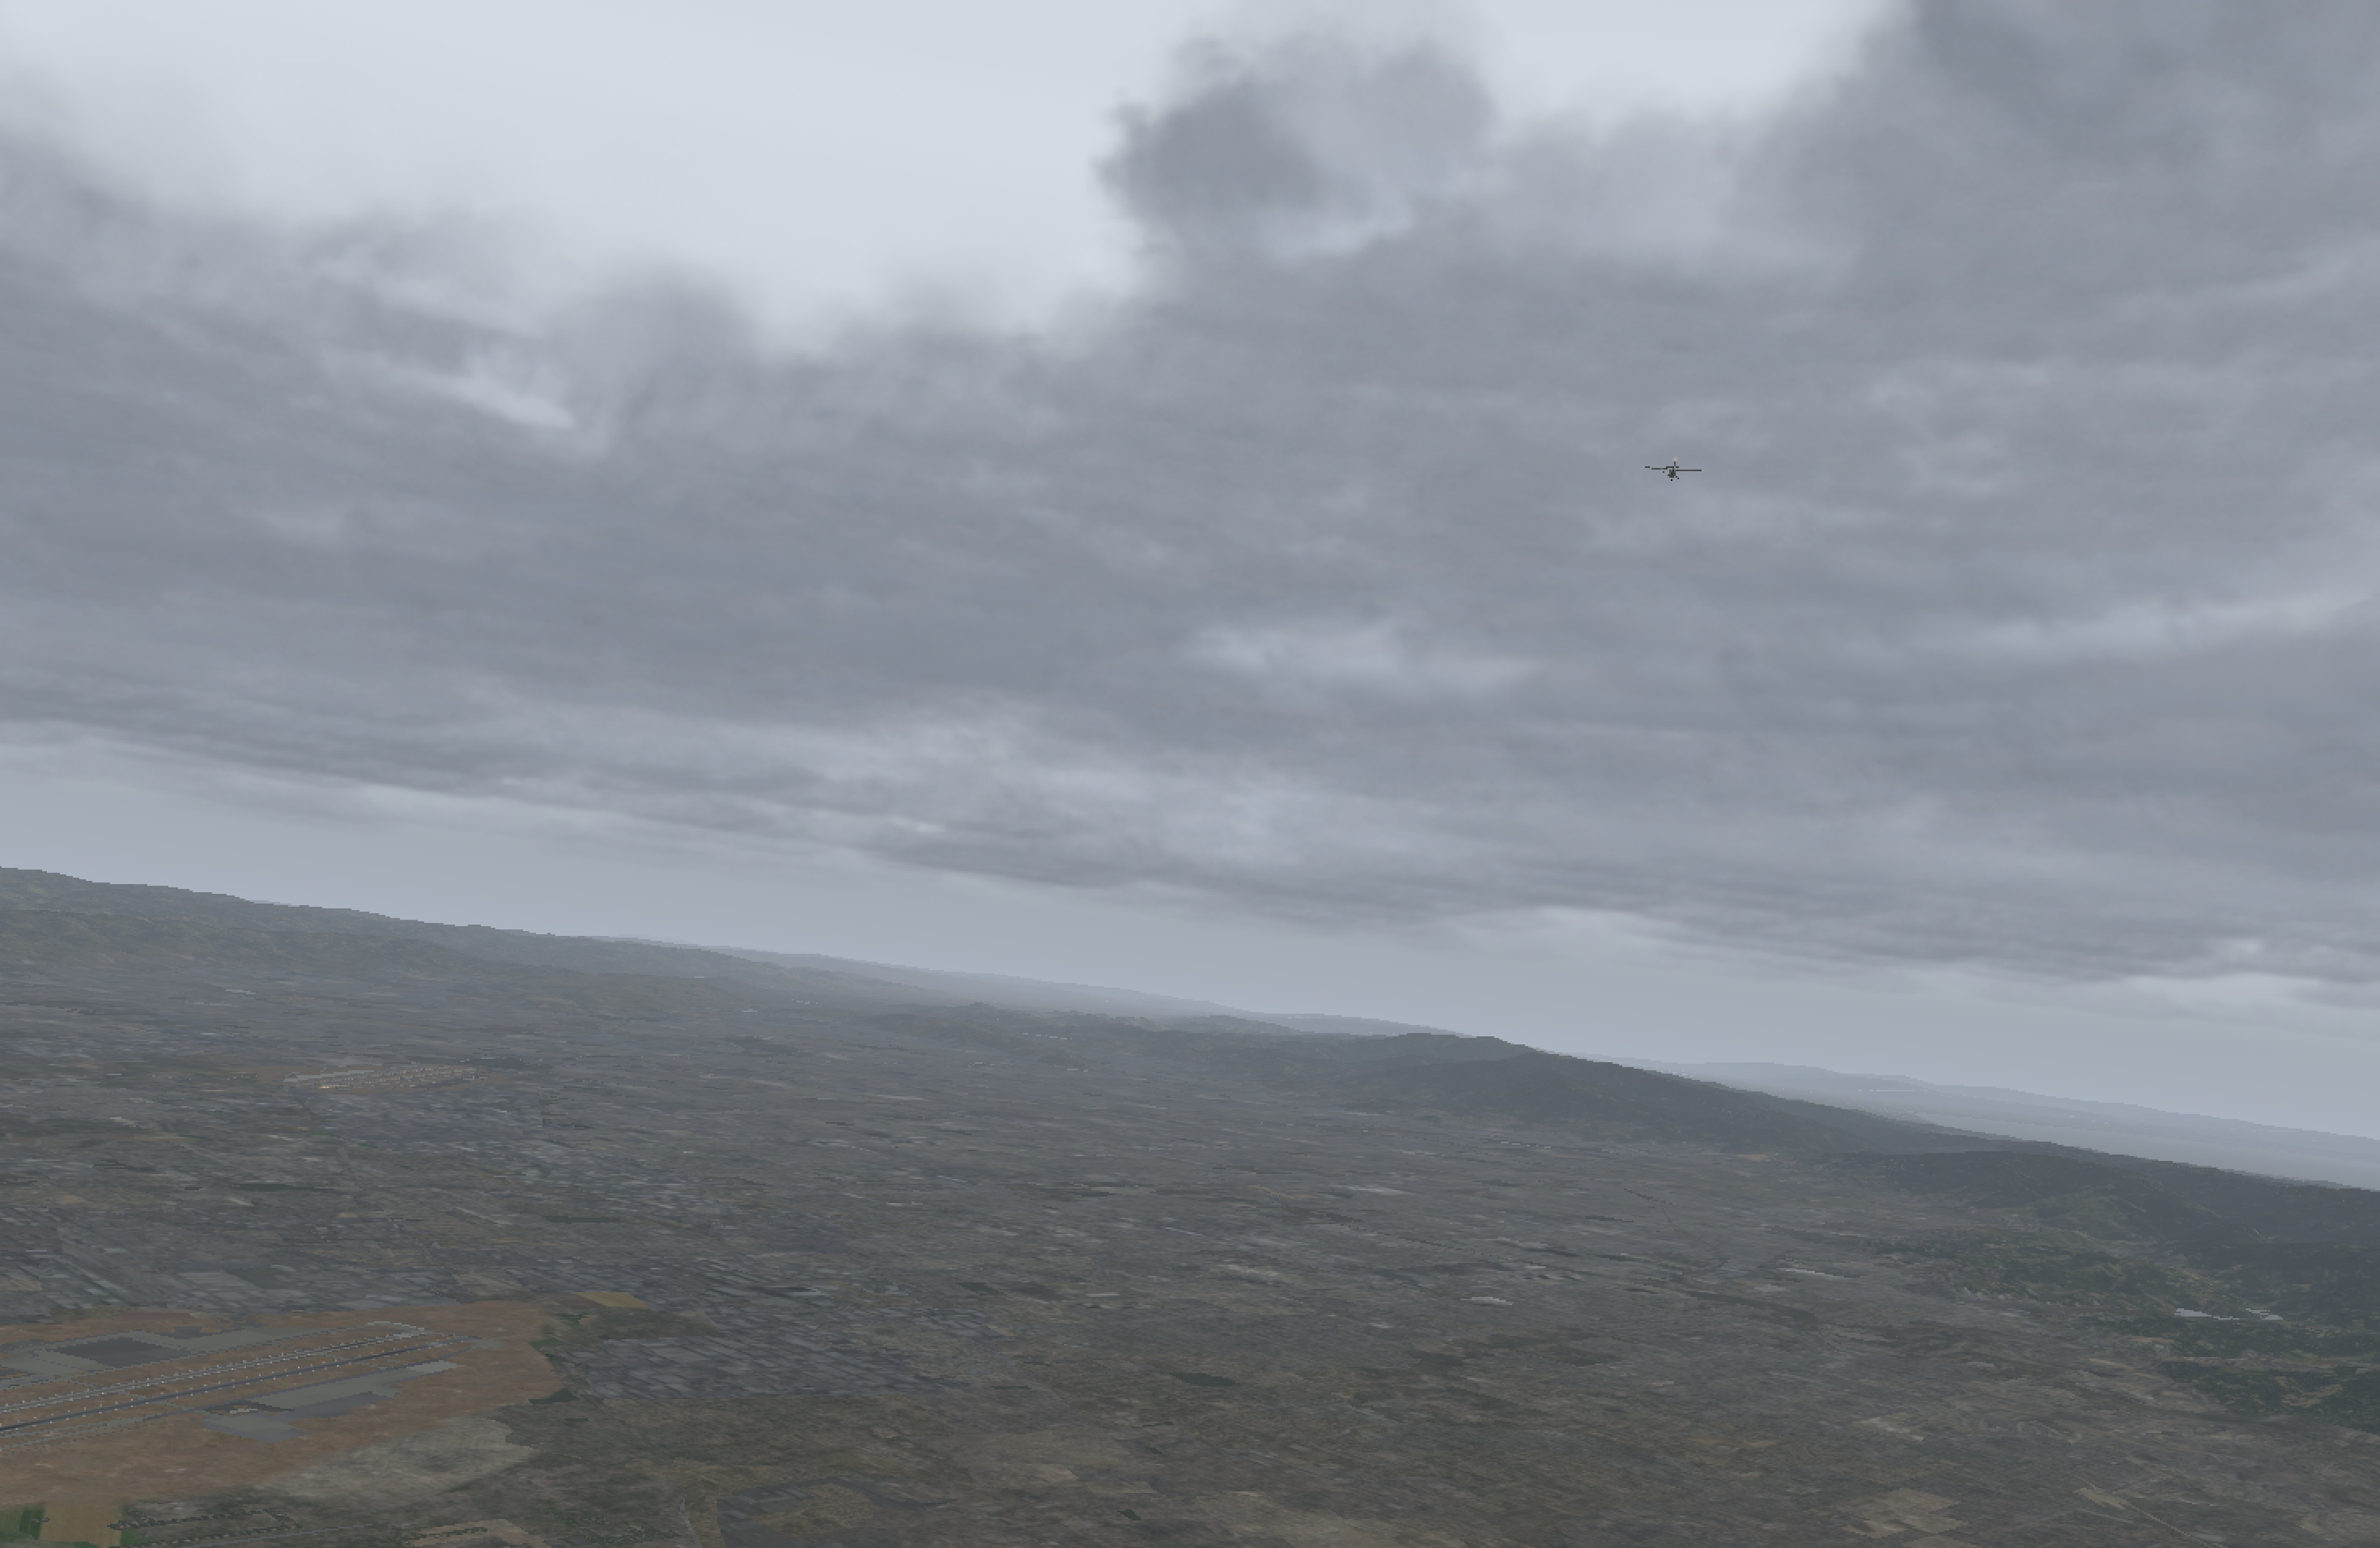aircraft: (1653, 465, 1691, 479)
